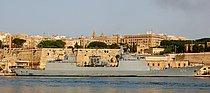MIL_Ship: (12, 51, 204, 77)
